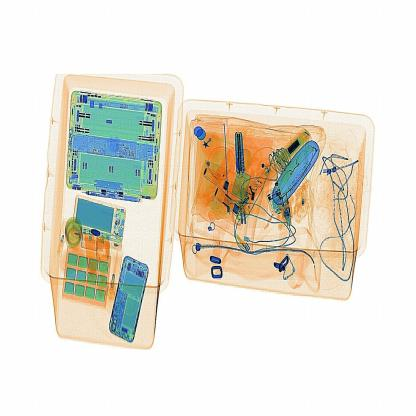scissors: (232, 127, 249, 176)
